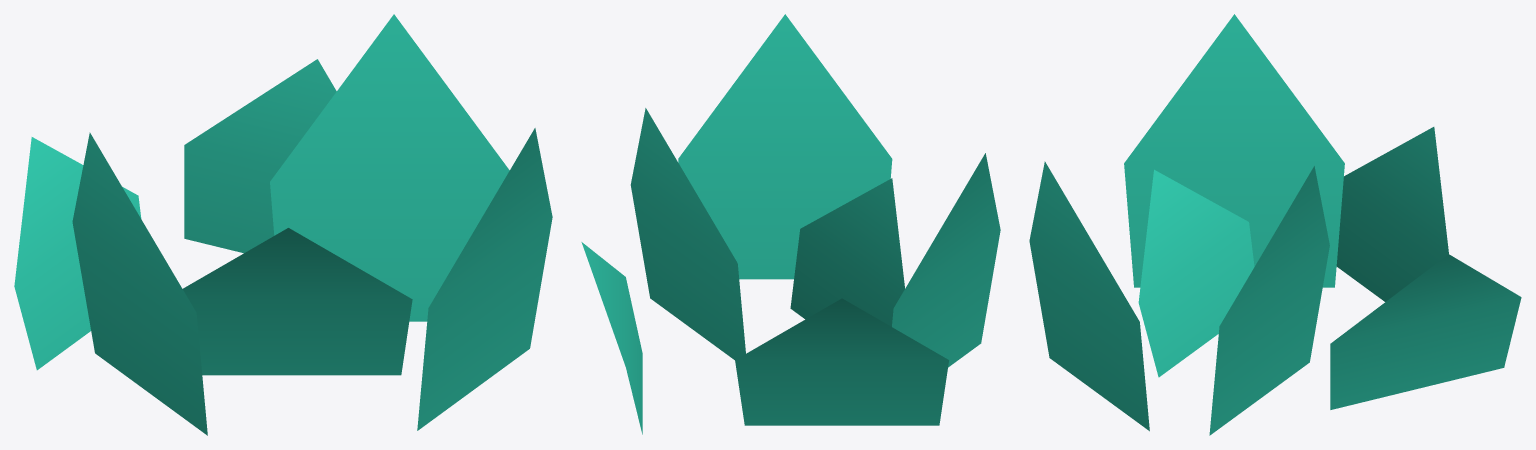
File: grass_leafs.dae
3 views of the same model, side by side, from view 1: azimuth 30°, elevation 25°; view 2: azimuth 150°, elevation 25°; view 3: azimuth 270°, elevation 25° (orthographic). The views are drawn at different scales.
Parts seen in each view (by area): view 1: grass_leafs; view 2: grass_leafs; view 3: grass_leafs.
Boxes of the visible parts, <box> form: grass_leafs: <box>14,14,552,435</box>; grass_leafs: <box>581,14,1000,434</box>; grass_leafs: <box>1029,14,1521,435</box>.
Bounding box in the file's own units: 0.2345 × 0.1425 × 0.2573.
